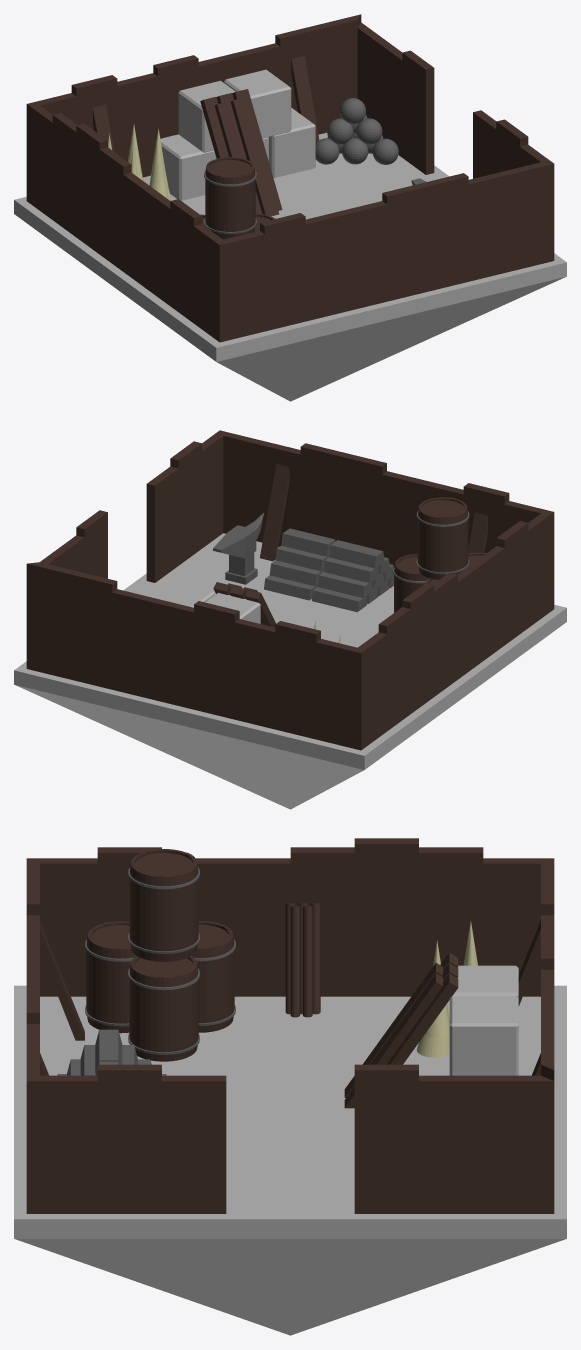
Rendered from Building Storage Yard T1.fbx.
The picture shows the model from 3 angles, top to bottom: view 1: azimuth 30°, elevation 25°; view 2: azimuth 150°, elevation 25°; view 3: azimuth 270°, elevation 25°; orthographic projection. The views are drawn at different scales.
Visible parts, largest first — view 1: Storage Yard T1; view 2: Storage Yard T1; view 3: Storage Yard T1.
Boxes of the visible parts, box(x1,y1,x2,y2) form: Storage Yard T1: box(14, 14, 566, 401); Storage Yard T1: box(14, 430, 566, 809); Storage Yard T1: box(14, 838, 566, 1335).
Bounding box in the file's own units: 1599 × 1283 × 1599.
